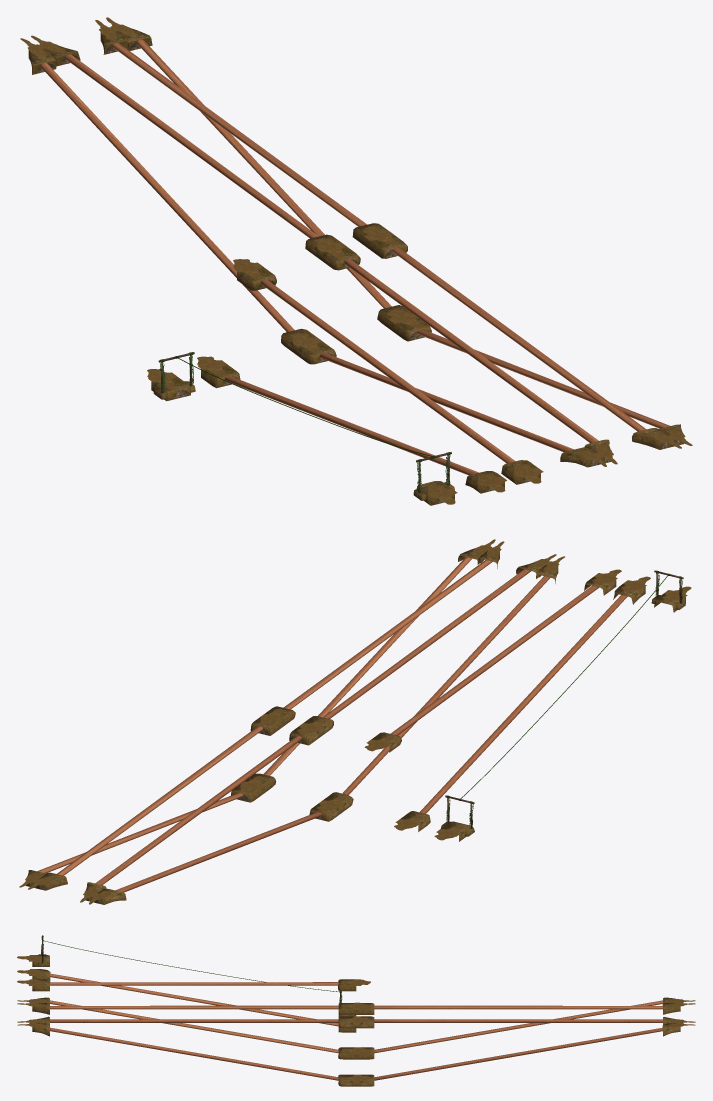
File: slider.fbx
The picture shows the model from 3 angles, top to bottom: view 1: azimuth 30°, elevation 25°; view 2: azimuth 150°, elevation 25°; view 3: azimuth 270°, elevation 25°; orthographic projection. The views are drawn at different scales.
Visible parts, largest first — view 1: dual balance slider 1, dual balance slider 2, balanced run straight, balance slider down, rope slider; view 2: dual balance slider 1, dual balance slider 2, balance slider down, balanced run straight, rope slider; view 3: dual balance slider 2, dual balance slider 1, balanced run straight, balance slider down, rope slider.
Boxes of the visible parts, x1,y1,x2,y2 form: dual balance slider 1: (20,35,617,467); dual balance slider 2: (95,17,692,449); balanced run straight: (233,259,543,484); balance slider down: (197,356,506,493); rope slider: (147,352,457,505); dual balance slider 1: (80,554,564,904); dual balance slider 2: (19,539,504,890); balance slider down: (394,576,650,831); balanced run straight: (364,569,621,752); rope slider: (434,570,691,841); dual balance slider 2: (17,1016,695,1086); dual balance slider 1: (17,997,695,1059); balanced run straight: (17,979,370,991); balance slider down: (17,969,356,1032); rope slider: (17,935,356,1016).
Bounding box in the file's own units: 40.46 × 18.45 × 153.
Materials: 1 (1 with a texture image).
